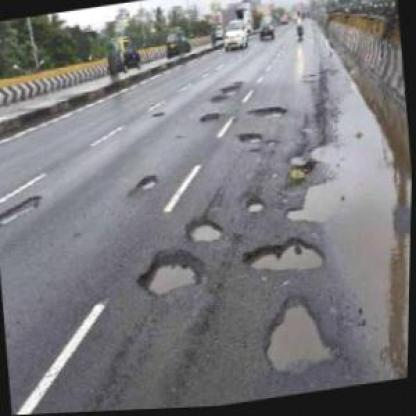pothole: (260, 290, 342, 377), (241, 233, 329, 281), (136, 244, 207, 298), (283, 178, 337, 228), (0, 190, 46, 226), (186, 213, 224, 247), (208, 76, 245, 107), (248, 103, 287, 122), (138, 172, 160, 193), (240, 130, 263, 147), (198, 110, 221, 126), (246, 198, 266, 214)
